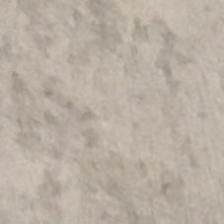Non_Crack: (25, 7, 224, 182)
